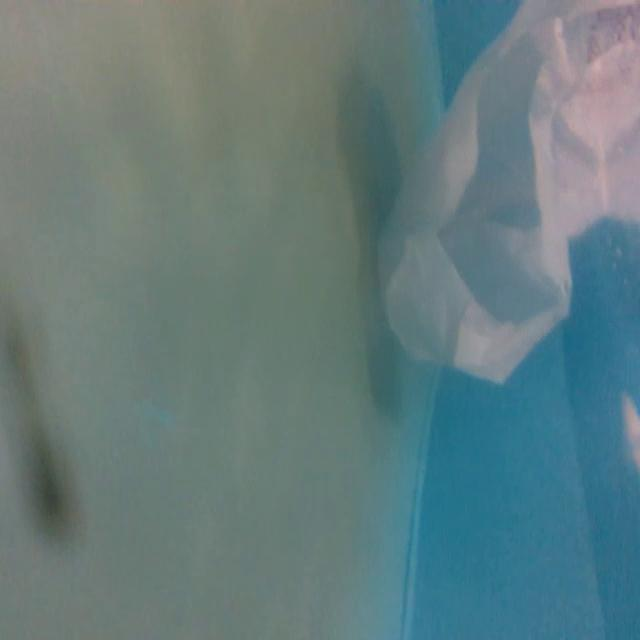plastic bags: (368, 1, 640, 395)
